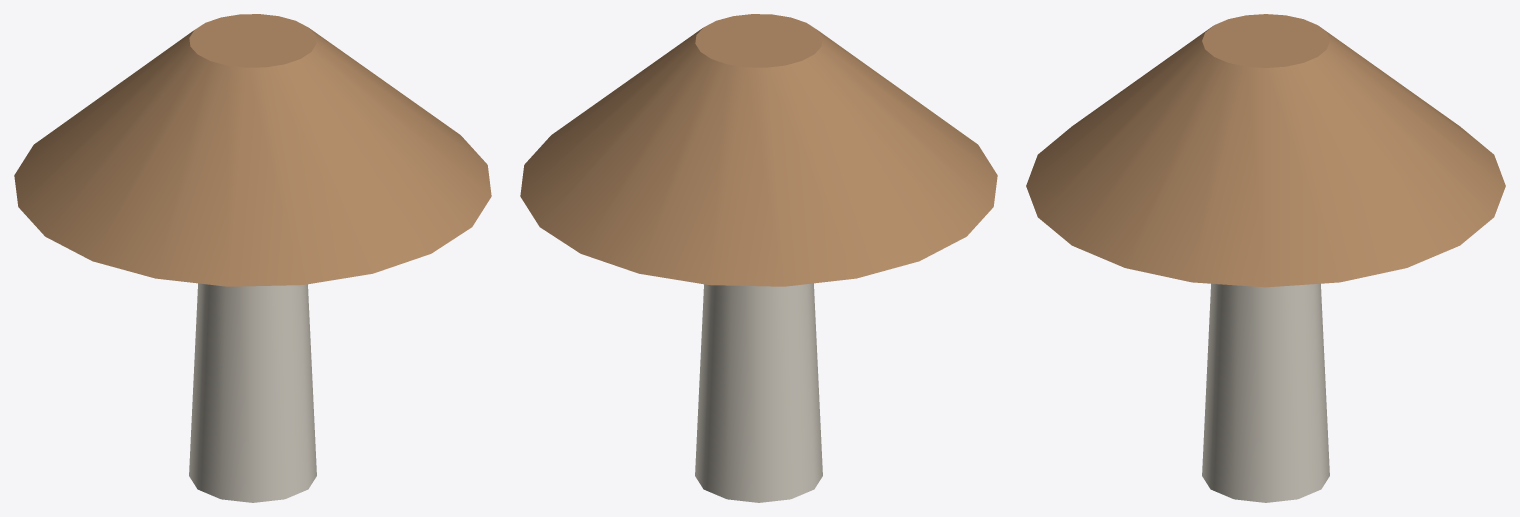
Rendered from mushroom.glb.
3 views of the same model, side by side, from view 1: azimuth 30°, elevation 25°; view 2: azimuth 150°, elevation 25°; view 3: azimuth 270°, elevation 25° (orthographic).
Visible parts, largest first — view 1: cap, stem; view 2: cap, stem; view 3: cap, stem.
Boxes of the visible parts, x1=… form: cap: x1=14, y1=14, x2=491, y2=286; stem: x1=189, y1=283, x2=316, y2=502; cap: x1=520, y1=14, x2=997, y2=286; stem: x1=695, y1=283, x2=822, y2=502; cap: x1=1026, y1=14, x2=1505, y2=287; stem: x1=1202, y1=283, x2=1329, y2=502.
Bounding box in the file's own units: 0.09 × 0.09 × 0.09.
